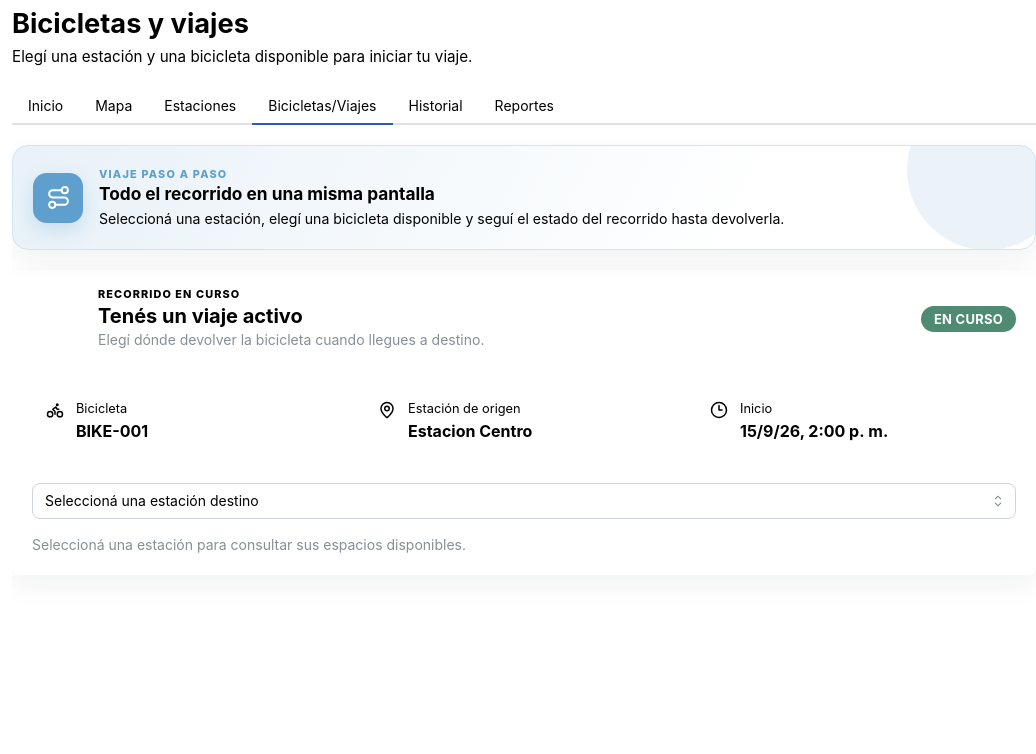
BicyclesPage › deshabilita la confirmación cuando la estación destino no tiene espacios
Select "Estacion Centro - Av. Corrientes 100" in the dropdown named "Estación destino": (524, 501) [32,483,1016,519]
(page scrolled)
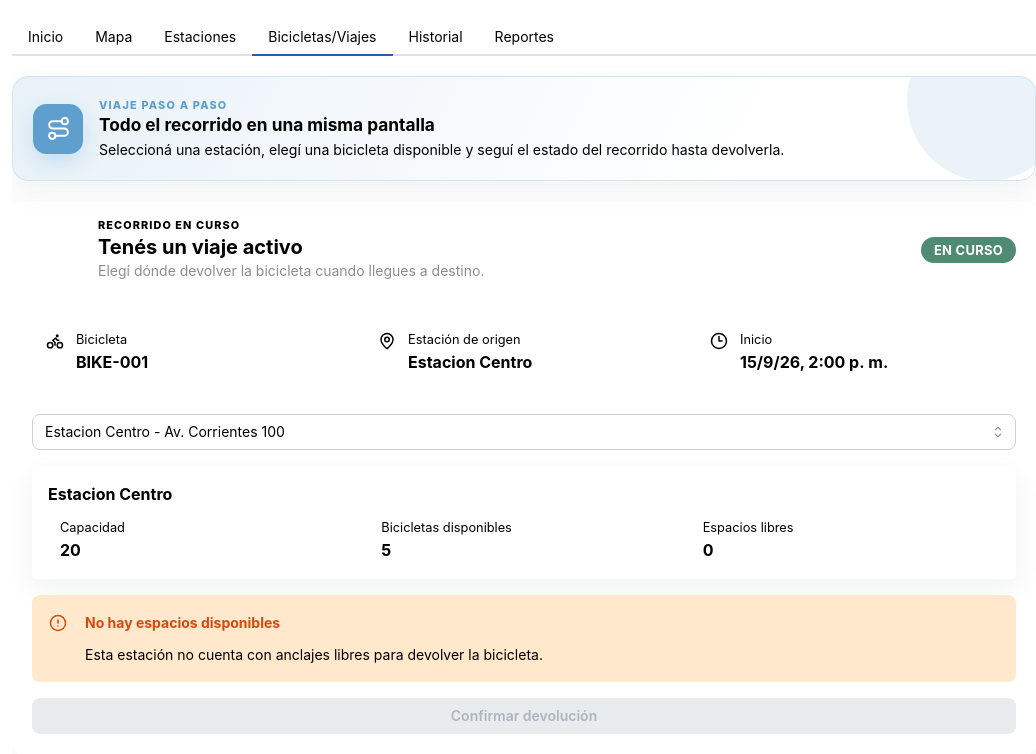
Check: the text "No hay espacios disponibles" is shown, box [85,612,280,634]
Check: the button "Confirmar devolución" is disabled, box [32,698,1016,734]
